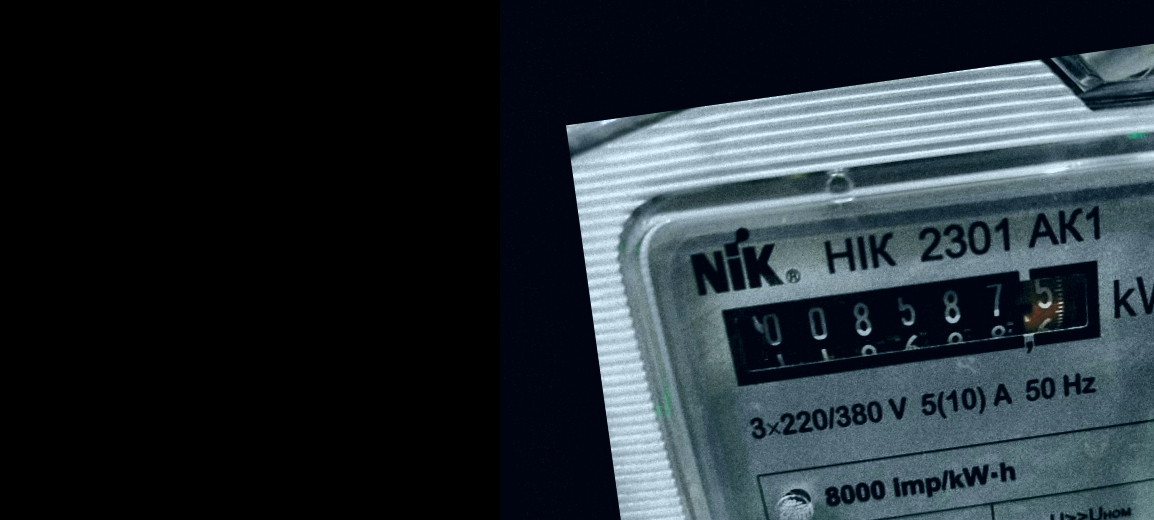0: (803, 300, 832, 343)
1: (757, 306, 786, 350)
5: (1030, 269, 1059, 312), (893, 288, 921, 329)
7: (981, 277, 1010, 321)
8: (846, 295, 877, 340), (938, 283, 964, 327)
screen: (699, 235, 1130, 410)
